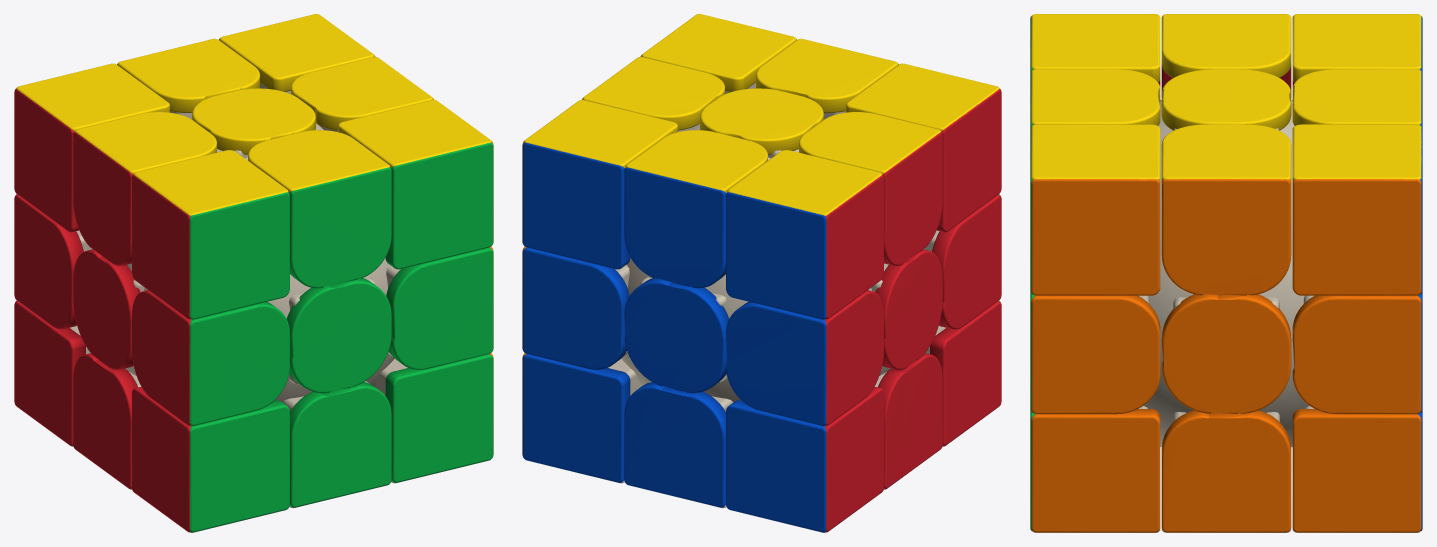
3 views of the same model, side by side, from view 1: azimuth 30°, elevation 25°; view 2: azimuth 150°, elevation 25°; view 3: azimuth 270°, elevation 25° (orthographic). The views are drawn at different scales.
Visible parts, largest first — view 1: piece_-1,1,1, piece_-1,-1,1, piece_1,1,1, piece_-1,0,1, piece_0,1,1, piece_-1,1,-1, piece_1,-1,1, piece_-1,1,0, piece_1,0,1, piece_0,-1,1, piece_0,0,1, piece_-1,-1,-1 (+8 smaller); view 2: piece_-1,1,-1, piece_-1,-1,-1, piece_1,1,-1, piece_-1,0,-1, piece_0,1,-1, piece_-1,1,1, piece_1,-1,-1, piece_-1,1,0, piece_1,0,-1, piece_0,-1,-1, piece_0,0,-1, piece_-1,-1,1 (+8 smaller); view 3: piece_1,1,-1, piece_1,1,1, piece_1,1,0, piece_1,-1,1, piece_1,-1,-1, piece_1,-1,0, piece_1,0,1, piece_1,0,-1, piece_1,0,0, piece_-1,1,0, piece_-1,1,-1, piece_-1,1,1 (+4 smaller).
Boxes of the visible parts, x1,y1,x2,y2 form: piece_-1,1,1: [132, 150, 289, 319]; piece_-1,-1,1: [132, 386, 289, 532]; piece_1,1,1: [338, 100, 493, 269]; piece_-1,0,1: [132, 290, 289, 425]; piece_0,1,1: [248, 130, 391, 288]; piece_-1,1,-1: [14, 63, 169, 232]; piece_1,-1,1: [374, 353, 493, 483]; piece_-1,1,0: [73, 112, 216, 265]; piece_1,0,1: [386, 247, 493, 369]; piece_0,-1,1: [283, 381, 391, 508]; piece_0,0,1: [287, 277, 391, 393]; piece_-1,-1,-1: [14, 300, 90, 446]; piece_-1,1,-1: [726, 150, 883, 319]; piece_-1,-1,-1: [726, 386, 883, 532]; piece_1,1,-1: [522, 100, 677, 269]; piece_-1,0,-1: [726, 290, 883, 425]; piece_0,1,-1: [624, 130, 767, 288]; piece_-1,1,1: [846, 63, 1001, 232]; piece_1,-1,-1: [522, 353, 641, 483]; piece_-1,1,0: [799, 112, 942, 265]; piece_1,0,-1: [522, 247, 629, 369]; piece_0,-1,-1: [624, 381, 732, 508]; piece_0,0,-1: [624, 277, 728, 393]; piece_-1,-1,1: [925, 300, 1001, 446]; piece_1,1,-1: [1292, 124, 1422, 295]; piece_1,1,1: [1030, 124, 1160, 295]; piece_1,1,0: [1161, 124, 1291, 295]; piece_1,-1,1: [1030, 406, 1160, 532]; piece_1,-1,-1: [1292, 406, 1422, 532]; piece_1,-1,0: [1161, 410, 1291, 532]; piece_1,0,1: [1030, 292, 1160, 414]; piece_1,0,-1: [1292, 292, 1422, 414]; piece_1,0,0: [1161, 294, 1291, 414]; piece_-1,1,0: [1161, 14, 1291, 98]; piece_-1,1,-1: [1292, 14, 1422, 86]; piece_-1,1,1: [1030, 14, 1160, 86].
Size of the model in its own units: 2 by 2 by 2.
